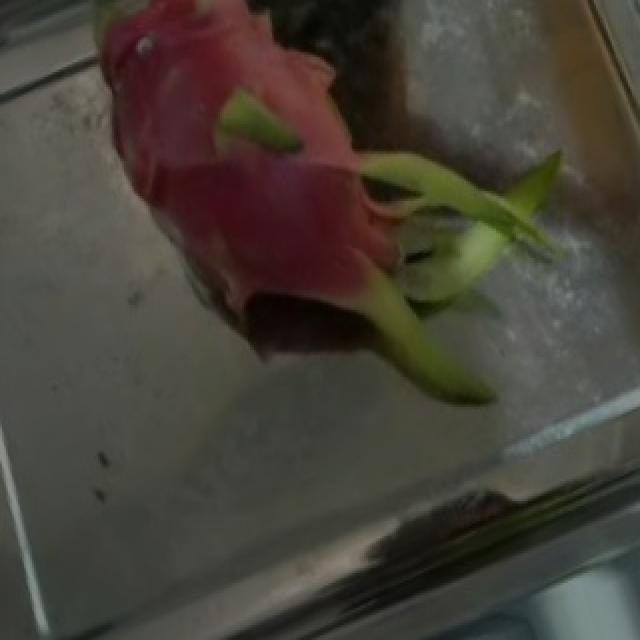fruit: (18, 0, 418, 392)
